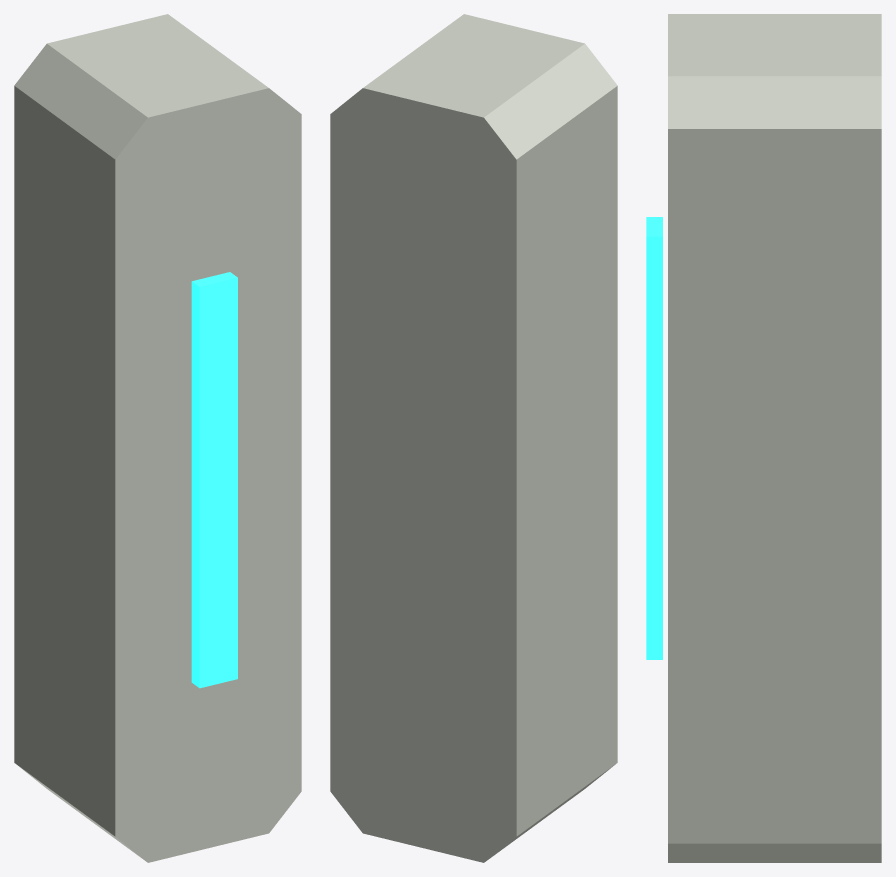
The model's file is City_Wayfinding_Mast.glb.
The picture shows the model from 3 angles, left to right: view 1: azimuth 30°, elevation 25°; view 2: azimuth 150°, elevation 25°; view 3: azimuth 270°, elevation 25°; orthographic projection. The views are drawn at different scales.
Visible parts, largest first — view 1: City_Wayfinding_Mast; view 2: City_Wayfinding_Mast; view 3: City_Wayfinding_Mast.
Part boxes in pixels (bbox=[...]): City_Wayfinding_Mast: bbox=[14, 14, 301, 862]; City_Wayfinding_Mast: bbox=[330, 14, 617, 862]; City_Wayfinding_Mast: bbox=[646, 14, 881, 862].
Bounding box in the file's own units: 0.34 × 1.3 × 0.3525.
